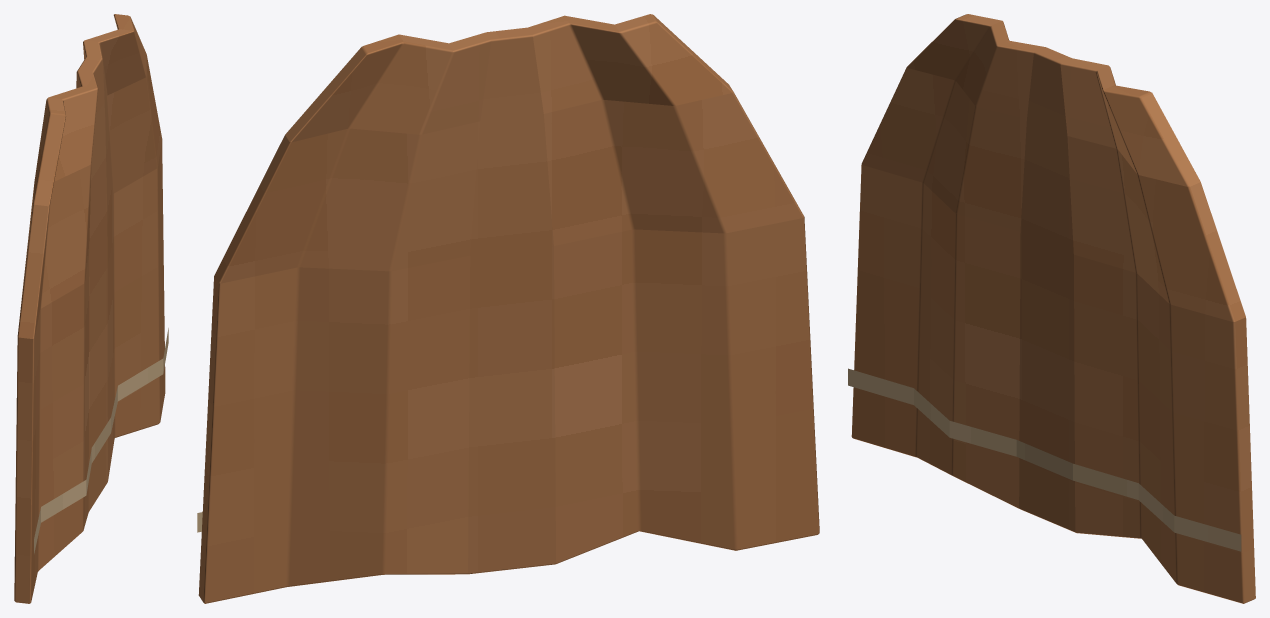
File: OchreHandTowel.glb
The picture shows the model from 3 angles, left to right: view 1: azimuth 30°, elevation 25°; view 2: azimuth 150°, elevation 25°; view 3: azimuth 270°, elevation 25°; orthographic projection. The views are drawn at different scales.
Visible parts, largest first — view 1: OchreHandTowel.Hanging-cloth, OchreHandTowel.Woven-hem; view 2: OchreHandTowel.Hanging-cloth; view 3: OchreHandTowel.Hanging-cloth, OchreHandTowel.Woven-hem.
Boxes of the visible parts, x1=… form: OchreHandTowel.Hanging-cloth: x1=14, y1=14, x2=165, y2=603; OchreHandTowel.Woven-hem: x1=34, y1=328, x2=168, y2=553; OchreHandTowel.Hanging-cloth: x1=198, y1=14, x2=819, y2=603; OchreHandTowel.Hanging-cloth: x1=851, y1=14, x2=1255, y2=603; OchreHandTowel.Woven-hem: x1=848, y1=368, x2=1241, y2=551.
Bounding box in the file's own units: 0.239 × 0.3 × 0.239.
Materials: 2 (2 with a texture image).
